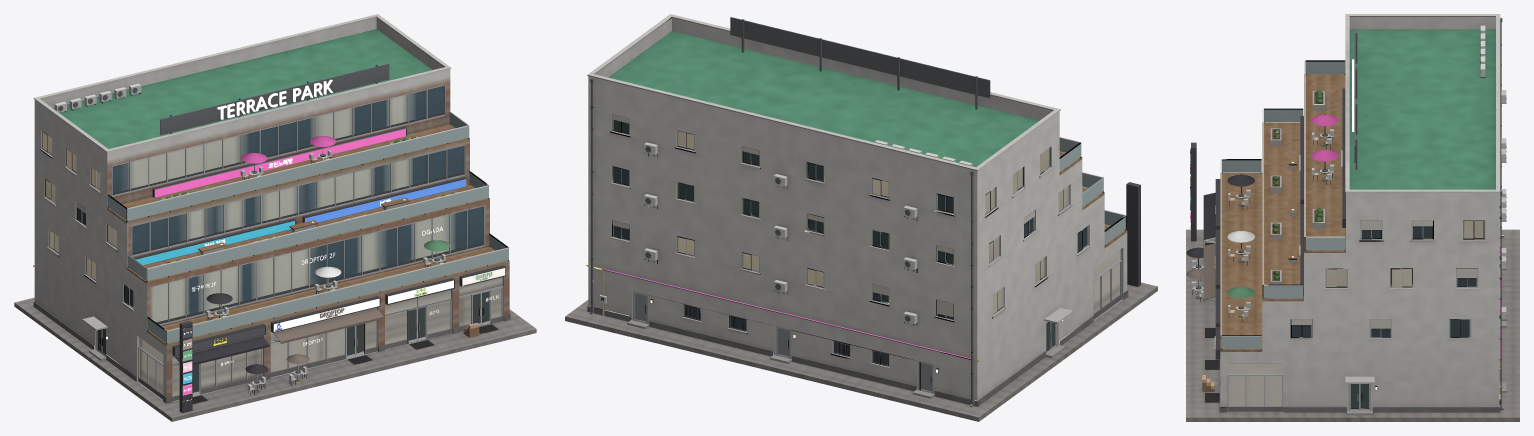
The model's file is IlsanTerracePark02.fbx.
3 views of the same model, side by side, from view 1: azimuth 30°, elevation 25°; view 2: azimuth 150°, elevation 25°; view 3: azimuth 270°, elevation 25° (orthographic). The views are drawn at different scales.
Parts seen in each view (by area): view 1: IlsanTerracePark02; view 2: IlsanTerracePark02; view 3: IlsanTerracePark02.
Boxes of the visible parts, x1,y1,x2,y2 form: IlsanTerracePark02: (14,14,536,421); IlsanTerracePark02: (565,14,1157,421); IlsanTerracePark02: (1186,14,1519,421).
Size of the model in its own units: 32 by 19.1 by 23.9.
1 material, 1 textured.
